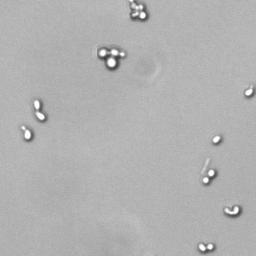budding: (31, 97, 50, 123), (200, 165, 218, 186), (222, 202, 243, 219), (19, 123, 34, 143), (197, 239, 216, 254), (242, 84, 256, 100)
cluster: (94, 43, 129, 73)
individual: (210, 133, 225, 146)
